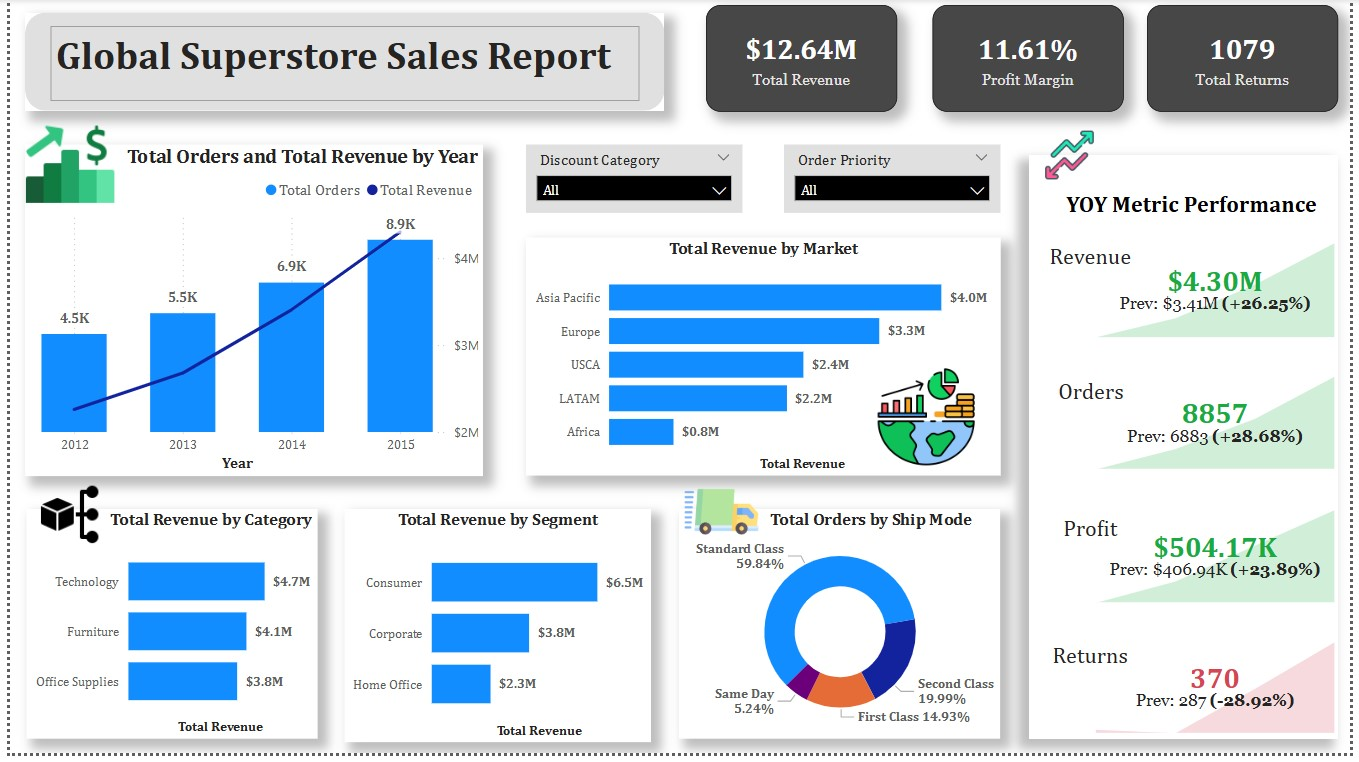

What the dashboard file says about the page in this screenshot:
{"tool":"powerbi","page":{"name":"Sales Overview","canvas":[1280,720],"ordinal":1},"visuals":[{"type":"shape","box":[972.6,149,296.3,557.4],"z":0},{"type":"shape","box":[14.3,12.7,610.8,93.8],"z":1000},{"type":"kpi","fields":{"TrendLine":["Calendar.Year"],"Goal":["Calendar.Revenue Previous Year"],"Indicator":["Calendar.Revenue TY"]},"box":[1030.7,227.5,238.6,100.2],"z":2000},{"type":"textbox","box":[38.2,25.4,563.1,71.6],"z":3000},{"type":"card","fields":{"Values":["Superstore data.Total Revenue"]},"box":[664.6,5,182.5,102.1],"z":4000},{"type":"card","fields":{"Values":["Superstore data.Profit Margin"]},"box":[880.5,5,182.5,102.1],"z":5000},{"type":"card","fields":{"Values":["Returns.Total Returns"]},"box":[1086.4,5,182.5,102.1],"z":6000},{"type":"kpi","fields":{"TrendLine":["Calendar.Year"],"Indicator":["Calendar.Profit TY"],"Goal":["Calendar.Profit LY"]},"box":[1030.7,482.5,238.6,98.6],"z":7000},{"type":"kpi","fields":{"TrendLine":["Calendar.Year"],"Indicator":["Calendar.Returns TY"],"Goal":["Calendar.Returns LY"]},"box":[1030.7,609.2,238.6,97],"z":8000},{"type":"kpi","fields":{"TrendLine":["Calendar.Year"],"Indicator":["Calendar.Orders TY"],"Goal":["Calendar.Orders LY"]},"box":[1030.7,355.8,238.6,98.6],"z":9000},{"type":"textbox","box":[987.8,178.1,279.9,49.3],"z":10000},{"type":"textbox","box":[978.4,227.5,106.6,35],"z":11000},{"type":"textbox","box":[978.4,609.2,106.6,35],"z":12000},{"type":"textbox","box":[992.7,486.7,77.9,35],"z":13000},{"type":"textbox","box":[979.2,356.3,105,35],"z":14000},{"type":"image","box":[979.8,120.9,63.6,57.3],"z":15000},{"type":"lineClusteredColumnComboChart","fields":{"Y2":["Superstore data.Total Revenue"],"Category":["Calendar.Year Hierarchy.Year","Calendar.Year Hierarchy.Quarter","Calendar.Year Hierarchy.Month"],"Y":["Superstore data.Total Orders"]},"box":[14.3,138.4,437.4,316.5],"z":16000},{"type":"donutChart","fields":{"Category":["Superstore data.Ship Mode"],"Y":["Superstore data.Total Orders"]},"box":[639.4,486.7,307,219.5],"z":17000},{"type":"clusteredBarChart","title":"Total Revenue by Category","fields":{"Y":["Sum(Superstore data.Sales)"],"Category":["Superstore data.Category"]},"box":[15.1,487.1,277.9,219.3],"z":18000},{"type":"clusteredBarChart","fields":{"Y":["Sum(Superstore data.Sales)"],"Category":["Superstore data.Market"]},"box":[493.1,227.5,453.3,227.5],"z":19000},{"type":"clusteredBarChart","fields":{"Y":["Sum(Superstore data.Sales)"],"Category":["Superstore data.Segment"]},"box":[319.7,486.7,292.7,222.7],"z":20000},{"type":"slicer","fields":{"Values":["Superstore data.Order Priority"]},"box":[739.6,138.4,206.8,65.2],"z":21000},{"type":"slicer","fields":{"Values":["Superstore data.Discount Category"]},"box":[493.1,138.4,206.8,65.2],"z":22000},{"type":"textbox","box":[625.1,482,299,39.8],"z":23000},{"type":"image","box":[803.3,342,143.2,112.9],"z":24000},{"type":"image","box":[639.4,448.6,81.1,82.7],"z":25000},{"type":"image","box":[14.3,454.9,85.9,73.2],"z":26000},{"type":"image","box":[1.6,97,111.3,119.3],"z":27000}]}

Visuals, with their boxes in screenshot pixels (x1, y1, x2, y2), scaled from the page's 1280x720 canvas onto the 1359x762 screenshot:
shape: detection(1033, 158, 1347, 748)
shape: detection(15, 13, 664, 113)
kpi - Calendar.Year x Calendar.Revenue Previous Year: detection(1094, 241, 1348, 347)
textbox: detection(41, 27, 638, 103)
card - Superstore data.Total Revenue: detection(706, 5, 899, 113)
card - Superstore data.Profit Margin: detection(935, 5, 1129, 113)
card - Returns.Total Returns: detection(1153, 5, 1347, 113)
kpi - Calendar.Year x Calendar.Profit TY: detection(1094, 511, 1348, 615)
kpi - Calendar.Year x Calendar.Returns TY: detection(1094, 645, 1348, 747)
kpi - Calendar.Year x Calendar.Orders TY: detection(1094, 377, 1348, 481)
textbox: detection(1049, 188, 1346, 241)
textbox: detection(1039, 241, 1152, 278)
textbox: detection(1039, 645, 1152, 682)
textbox: detection(1054, 515, 1137, 552)
textbox: detection(1040, 377, 1151, 414)
image: detection(1040, 128, 1108, 189)
lineClusteredColumnComboChart - Superstore data.Total Revenue x Calendar.Year Hierarchy.Year: detection(15, 146, 480, 481)
donutChart - Superstore data.Ship Mode x Superstore data.Total Orders: detection(679, 515, 1005, 747)
"Total Revenue by Category" clusteredBarChart: detection(16, 516, 311, 748)
clusteredBarChart - Sum(Superstore data.Sales) x Superstore data.Market: detection(524, 241, 1005, 482)
clusteredBarChart - Sum(Superstore data.Sales) x Superstore data.Segment: detection(339, 515, 650, 751)
slicer - Superstore data.Order Priority: detection(785, 146, 1005, 215)
slicer - Superstore data.Discount Category: detection(524, 146, 743, 215)
textbox: detection(664, 510, 981, 552)
image: detection(853, 362, 1005, 481)
image: detection(679, 475, 765, 562)
image: detection(15, 481, 106, 559)
image: detection(2, 103, 120, 229)
